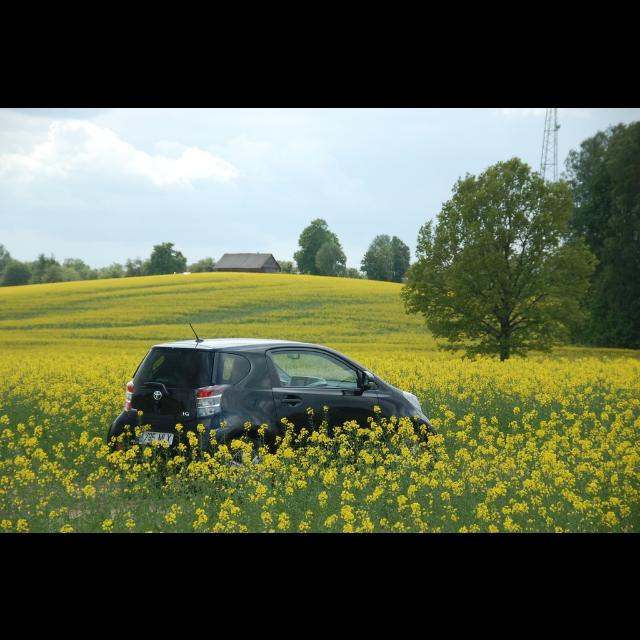Flower: (1, 270, 640, 532), (343, 523, 352, 531)
